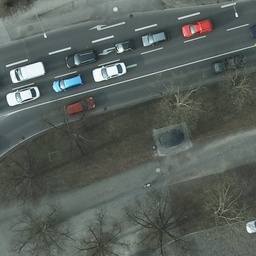car: (93, 60, 127, 84), (63, 47, 96, 70), (61, 95, 97, 116), (212, 54, 245, 75), (182, 17, 214, 37), (51, 73, 84, 92), (7, 89, 42, 105), (140, 31, 169, 47), (113, 38, 132, 57)
van: (8, 61, 46, 85)
